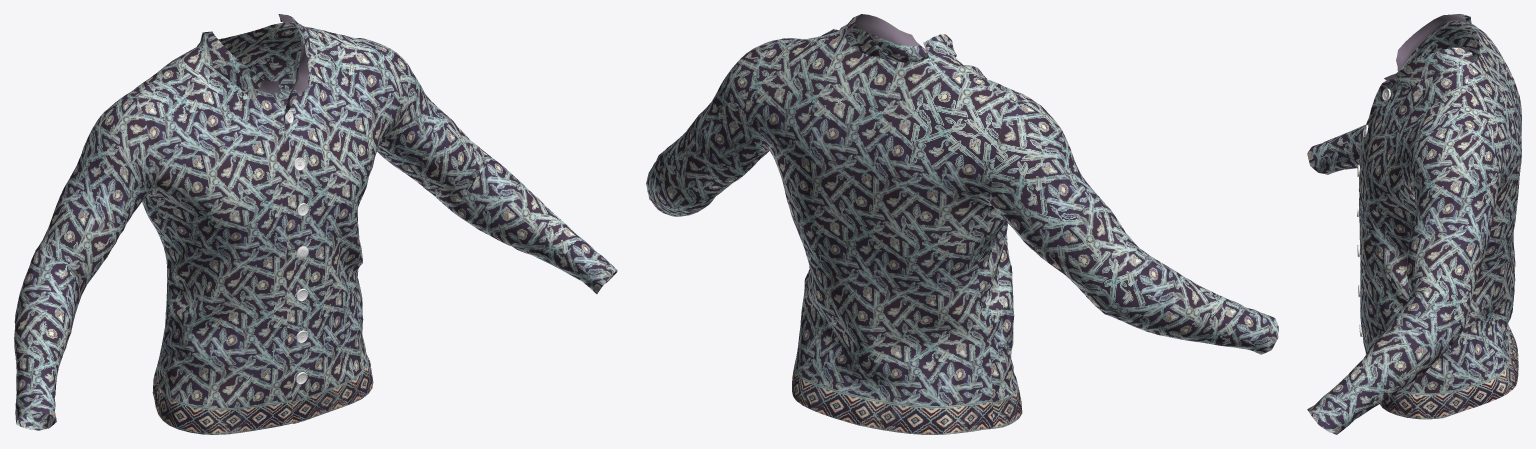
The model's file is Baju_Panjang.fbx.
3 views of the same model, side by side, from view 1: azimuth 30°, elevation 25°; view 2: azimuth 150°, elevation 25°; view 3: azimuth 270°, elevation 25° (orthographic). The views are drawn at different scales.
Parts seen in each view (by area): view 1: Baju_Panjang; view 2: Baju_Panjang; view 3: Baju_Panjang.
Boxes of the visible parts, box(x1,y1,x2,y2) form: Baju_Panjang: box(14, 14, 617, 434); Baju_Panjang: box(646, 14, 1278, 434); Baju_Panjang: box(1307, 14, 1521, 434).
Bounding box in the file's own units: 1059 × 620 × 348.
14 materials, 12 textured.
